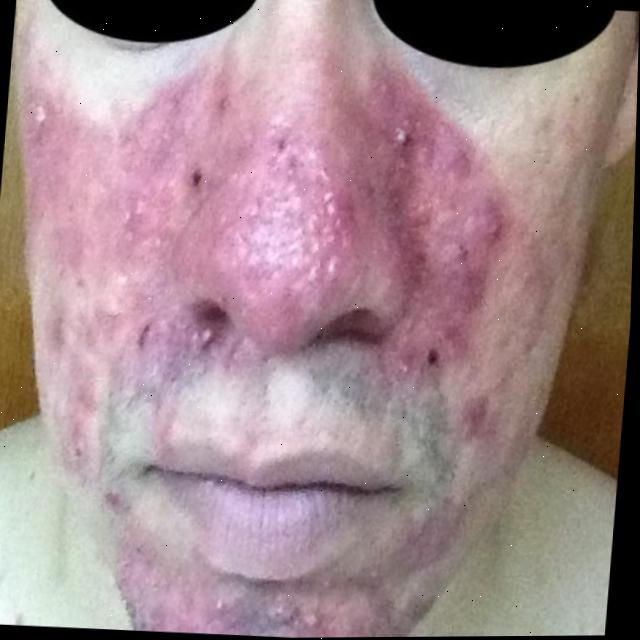Rosacea: (30, 50, 506, 472), (152, 551, 404, 639)
